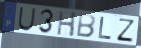3: (37, 9, 57, 35)
B: (75, 13, 97, 39)
H: (56, 11, 77, 39)
L: (98, 16, 114, 41)
U: (17, 6, 37, 32)
Z: (116, 17, 136, 43)
